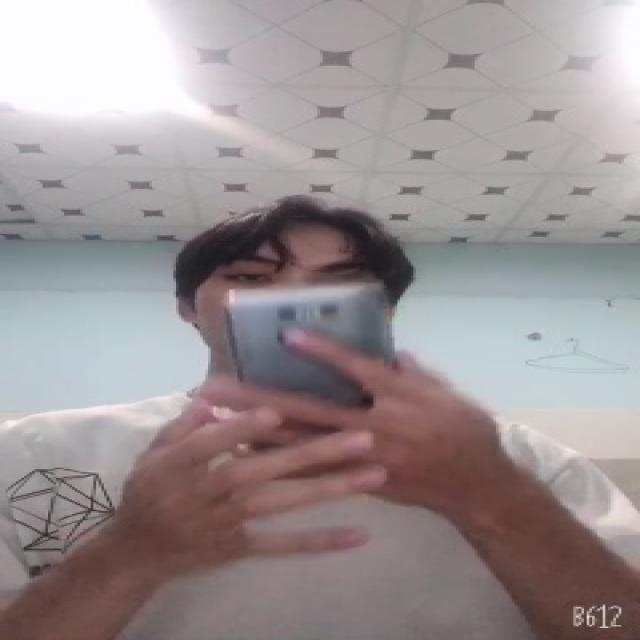Phone: (223, 278, 397, 445)
